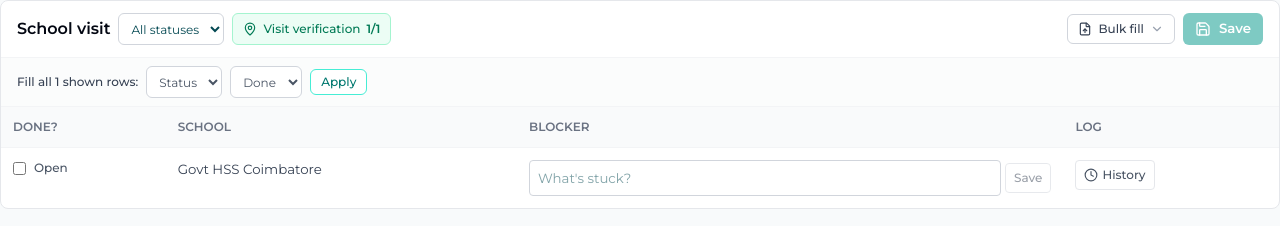
it: tracker grid — the visit-verification gate › marks done normally once the school is verified
The image size is (1280, 226).
Step 1. Click the checkbox → (20, 168), box [13, 162, 26, 174]
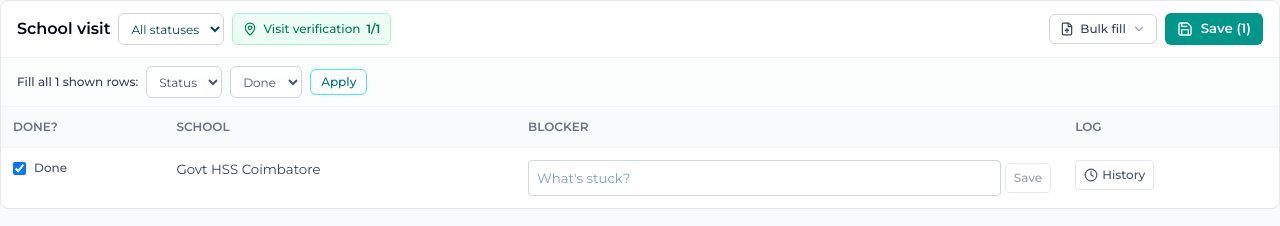
Check: the button "Save (1)" is shown, box [1165, 14, 1263, 44]
